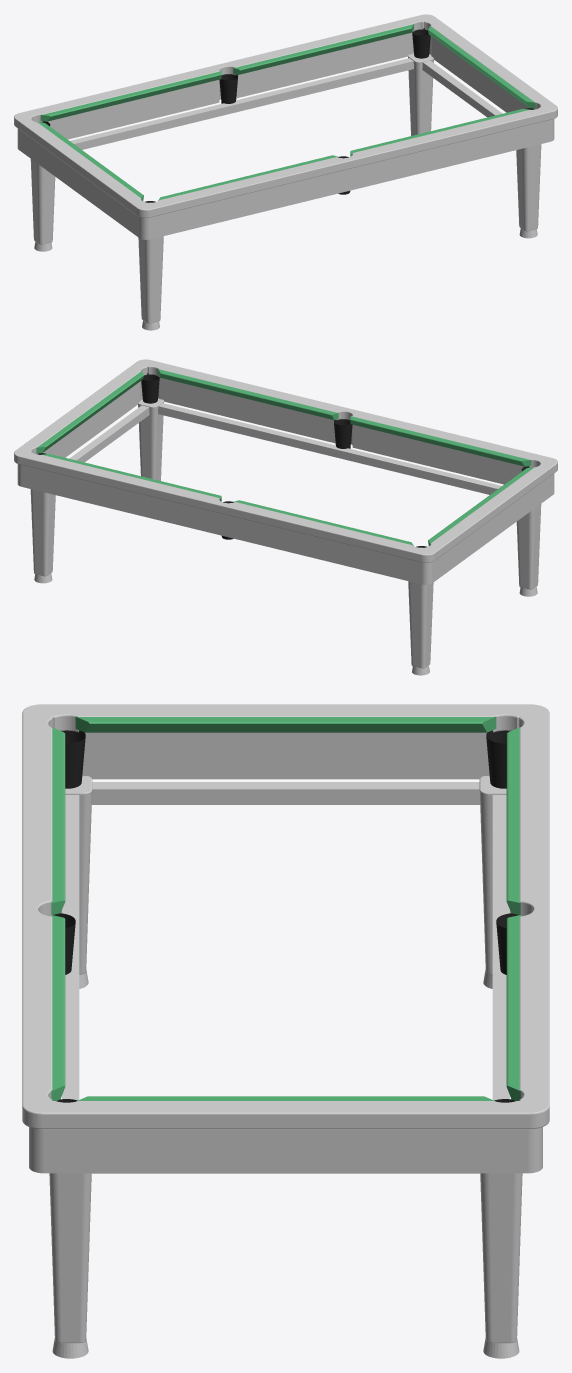
File: table.glb
3 views of the same model, one above another, from view 1: azimuth 30°, elevation 25°; view 2: azimuth 150°, elevation 25°; view 3: azimuth 270°, elevation 25° (orthographic). The views are drawn at different scales.
Parts seen in each view (by area): view 1: frame, cushion, pocket; view 2: frame, cushion, pocket; view 3: frame, cushion, pocket.
Part boxes in pixels (x1,y1,x2,y2): frame: (14,14,557,330); cushion: (36,24,535,200); pocket: (42,28,534,202); frame: (14,359,557,675); cushion: (36,369,535,545); pocket: (37,373,529,547); frame: (22,704,549,1358); cushion: (51,716,520,1101); pocket: (53,730,518,1102).
Bounding box in the file's own units: 2.79 × 0.8201 × 1.52.
